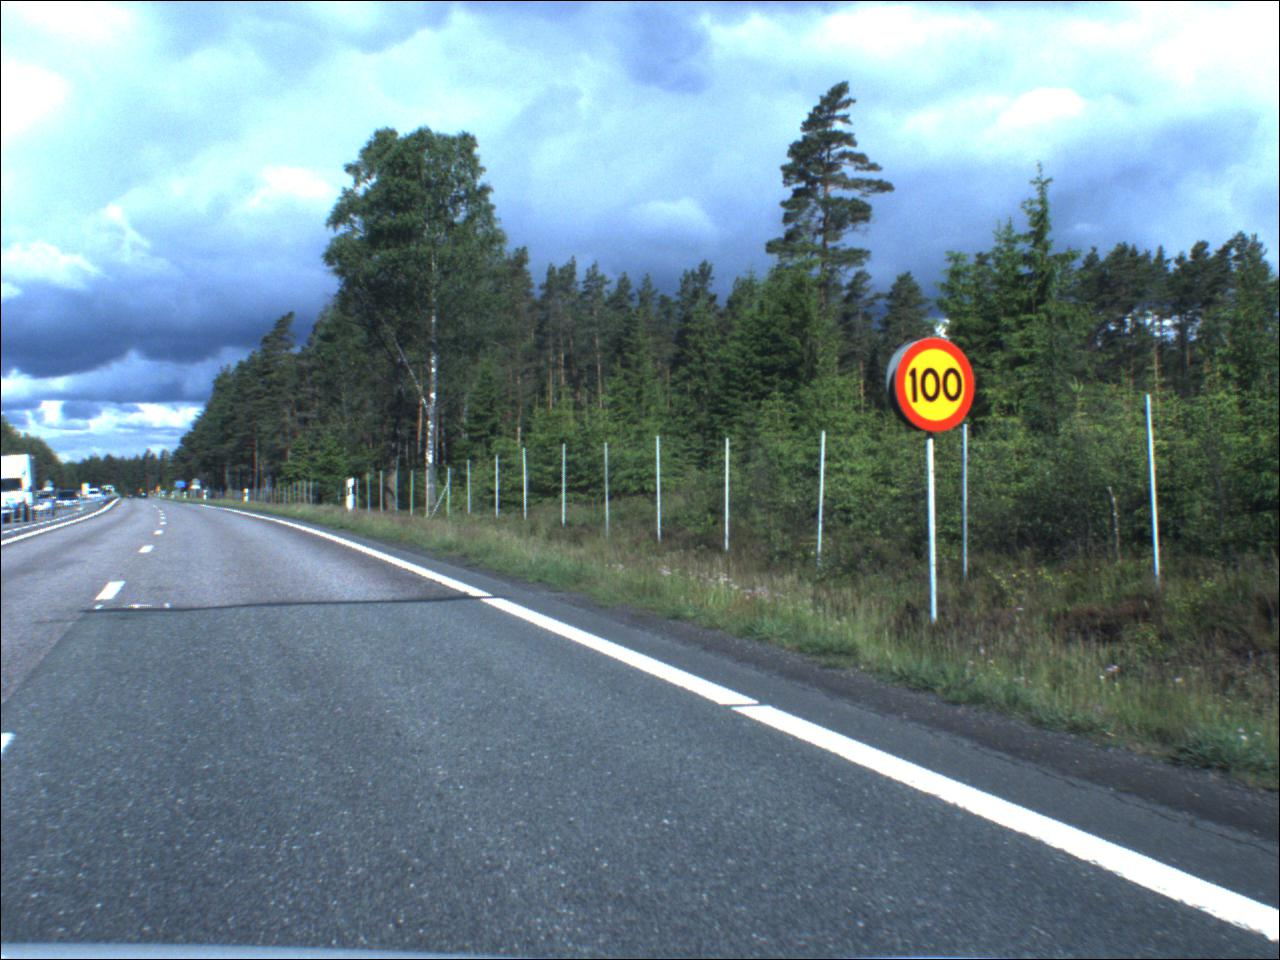100_SIGN: (894, 337, 976, 434)
